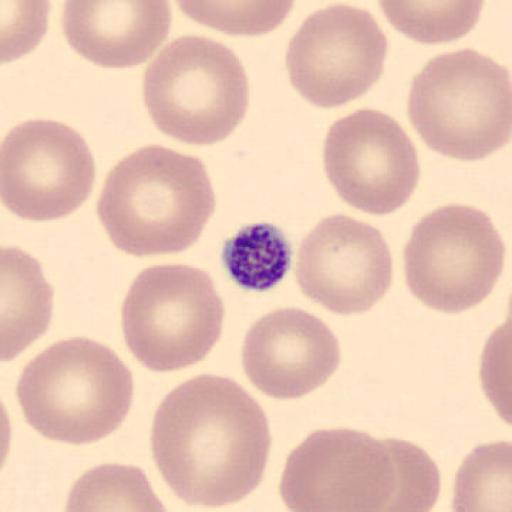Platelet: (219, 219, 294, 294)
RBC: (149, 372, 273, 511), (96, 142, 218, 259), (14, 334, 135, 447), (141, 32, 252, 147), (405, 46, 512, 164), (120, 260, 226, 374), (402, 201, 507, 315), (284, 1, 389, 110), (320, 106, 422, 216), (294, 211, 394, 318), (278, 424, 397, 512), (2, 116, 98, 224), (240, 305, 343, 402), (60, 1, 174, 70), (2, 244, 56, 364), (361, 433, 443, 512), (62, 460, 170, 512), (376, 0, 486, 47), (175, 0, 299, 38), (451, 437, 512, 512), (478, 317, 512, 431), (2, 0, 53, 66), (0, 395, 14, 477)
